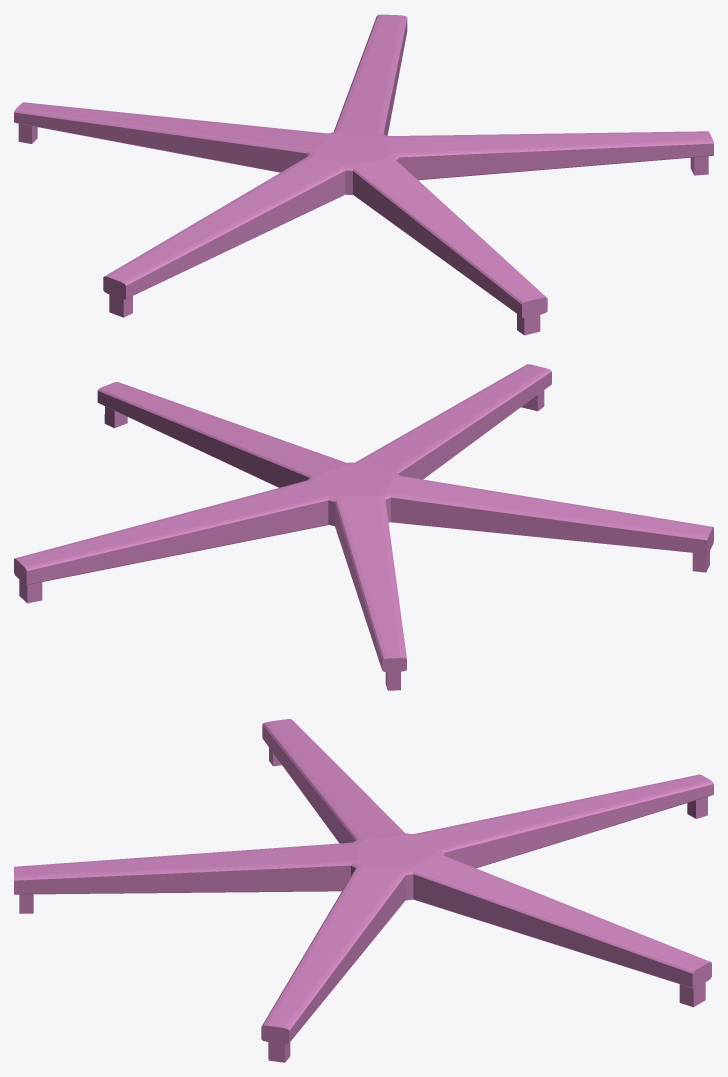
The model's file is chair_feet_bottom.fbx.
3 renders of one model, top to bottom at view 1: azimuth 30°, elevation 25°; view 2: azimuth 150°, elevation 25°; view 3: azimuth 270°, elevation 25°, orthographic. The views are drawn at different scales.
Parts seen in each view (by area): view 1: feet_bottom; view 2: feet_bottom; view 3: feet_bottom.
Part boxes in pixels (x1,y1,x2,y2): feet_bottom: [14, 14, 713, 335]; feet_bottom: [14, 364, 713, 690]; feet_bottom: [14, 719, 713, 1062].
Bounding box in the file's own units: 113 × 9.79 × 108.
